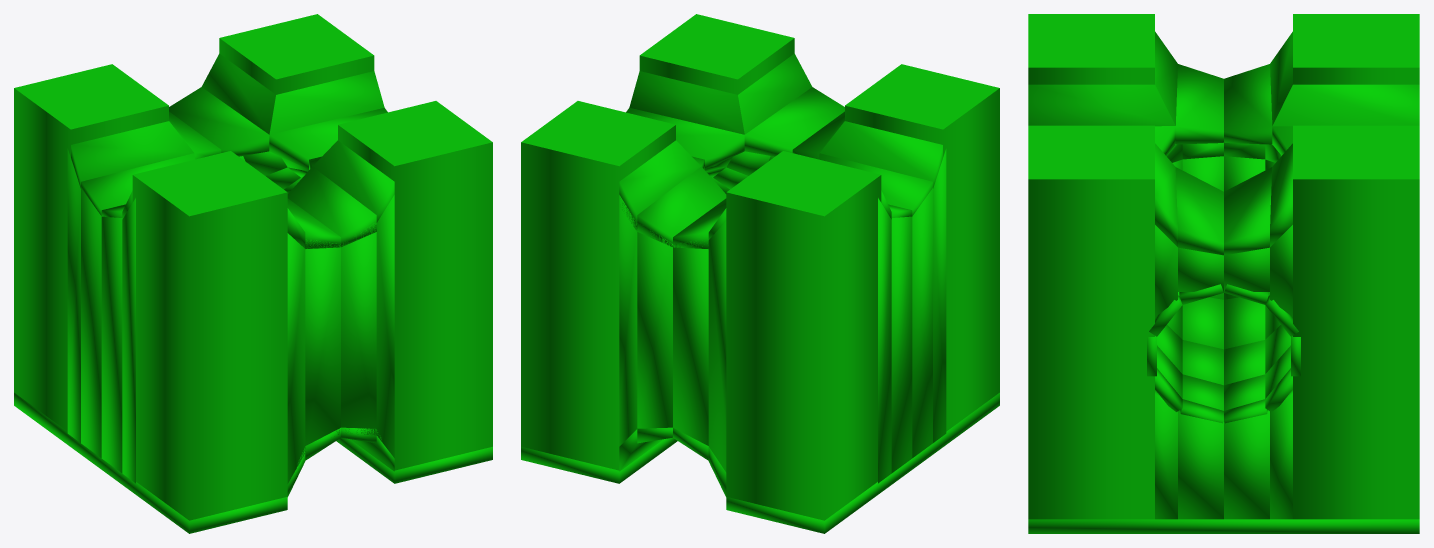
The model's file is UCXKugelbahn.29.fbx.
3 views of the same model, side by side, from view 1: azimuth 30°, elevation 25°; view 2: azimuth 150°, elevation 25°; view 3: azimuth 270°, elevation 25° (orthographic). The views are drawn at different scales.
Parts seen in each view (by area): view 1: UCX_Kugelbahn.29_low; view 2: UCX_Kugelbahn.29_low; view 3: UCX_Kugelbahn.29_low.
Boxes of the visible parts, x1,y1,x2,y2 form: UCX_Kugelbahn.29_low: [14, 14, 492, 533]; UCX_Kugelbahn.29_low: [521, 14, 999, 533]; UCX_Kugelbahn.29_low: [1028, 14, 1419, 533].
Bounding box in the file's own units: 0.05 × 0.05 × 0.05.
